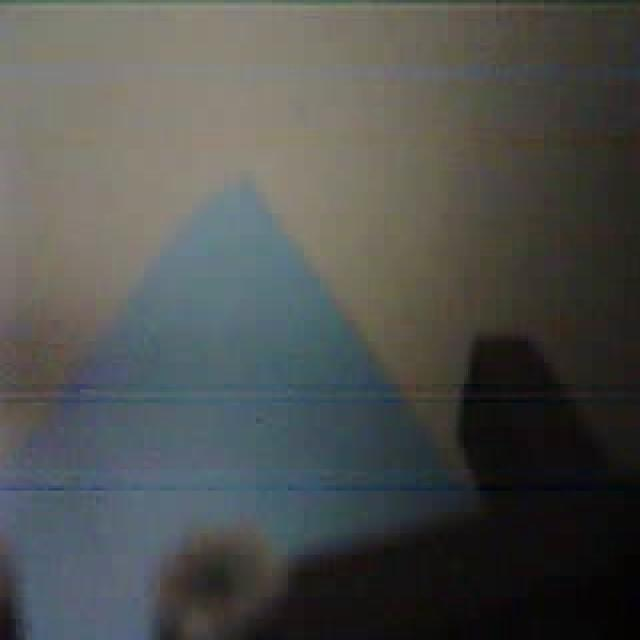blue_box: (4, 176, 488, 616)
